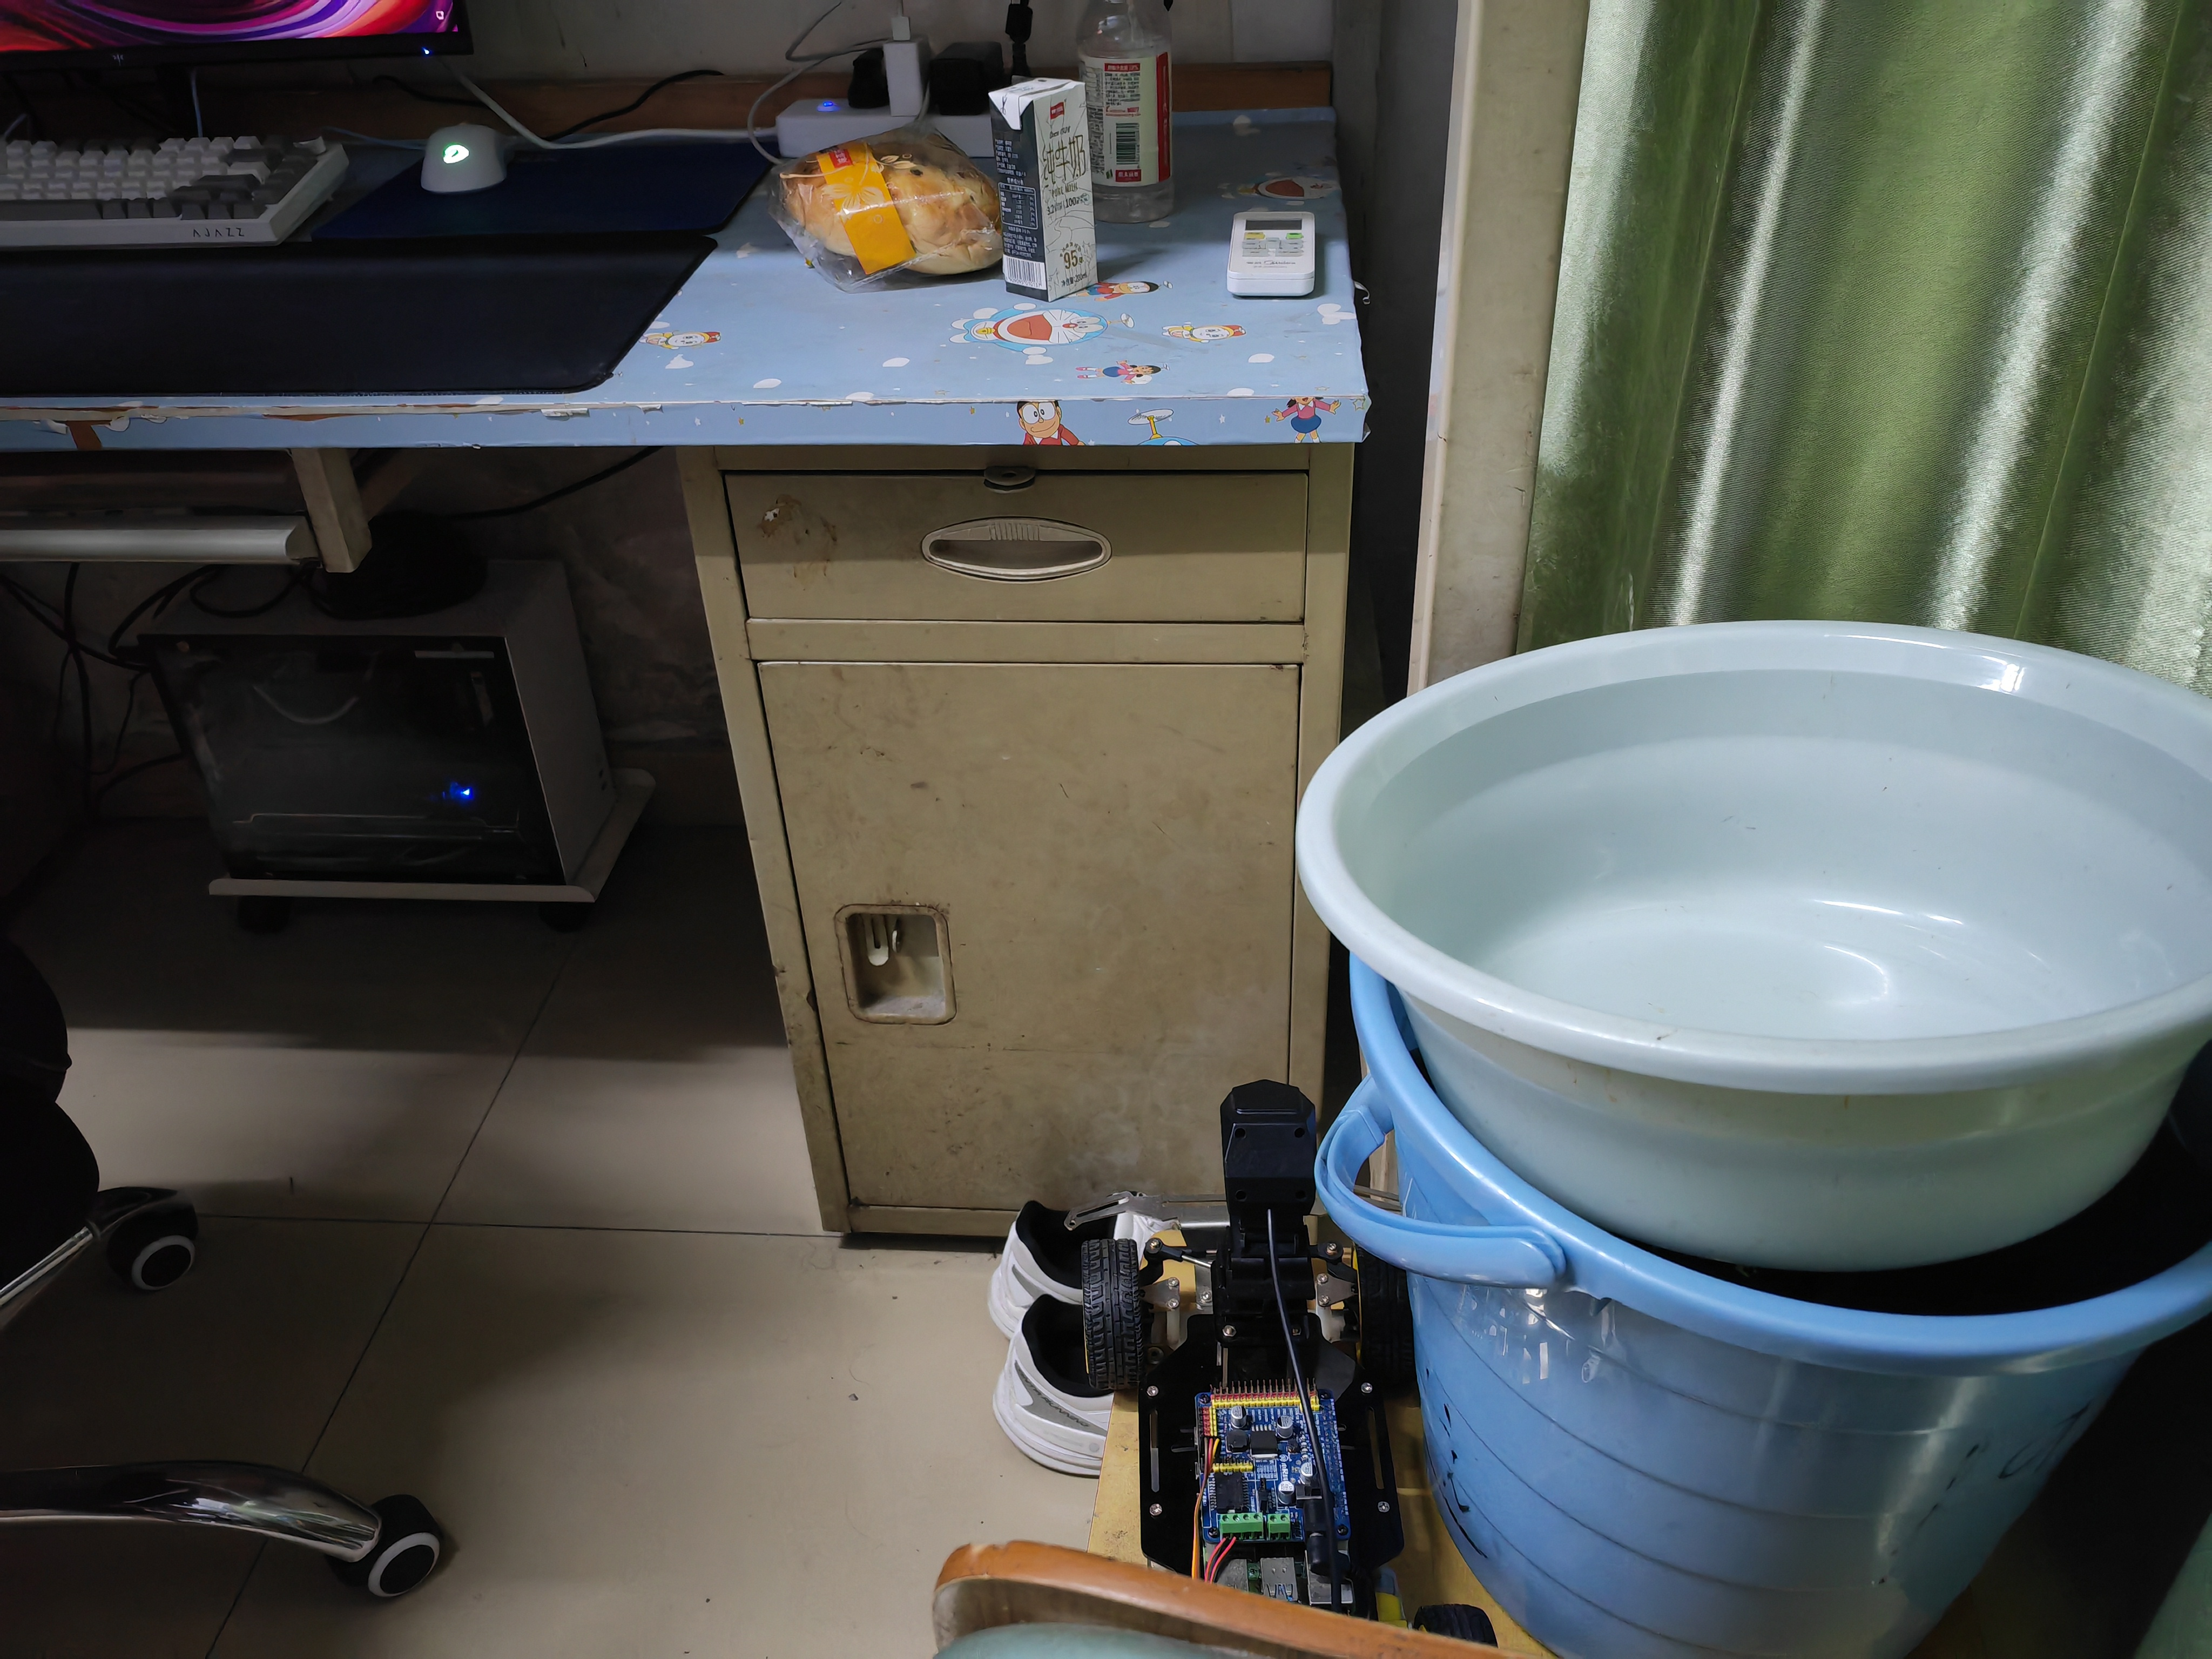car: (1108, 1077, 1421, 1575)
